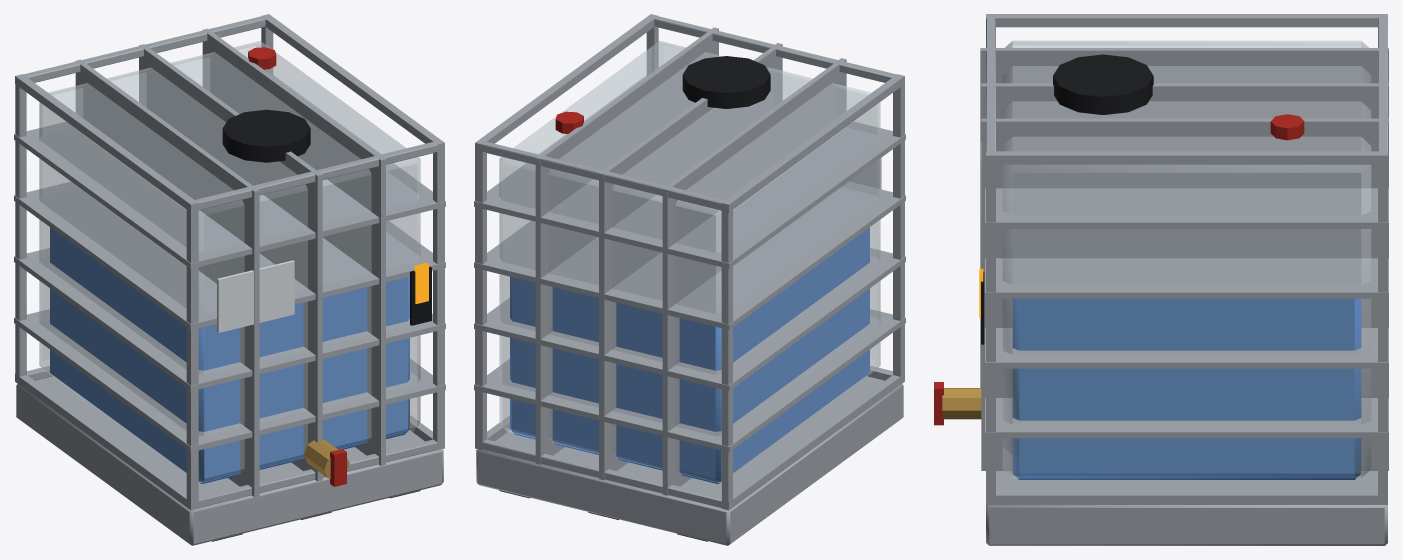
The model's file is barrel_ibc_tote_steel.glb.
3 views of the same model, side by side, from view 1: azimuth 30°, elevation 25°; view 2: azimuth 150°, elevation 25°; view 3: azimuth 270°, elevation 25° (orthographic). The views are drawn at different scales.
Parts seen in each view (by area): view 1: barrel_ibc_tote_steel; view 2: barrel_ibc_tote_steel; view 3: barrel_ibc_tote_steel.
Part boxes in pixels (x1,y1,x2,y2): barrel_ibc_tote_steel: (14, 14, 445, 545); barrel_ibc_tote_steel: (474, 14, 905, 545); barrel_ibc_tote_steel: (934, 14, 1388, 545).
Bounding box in the file's own units: 1 × 1.32 × 1.36.
